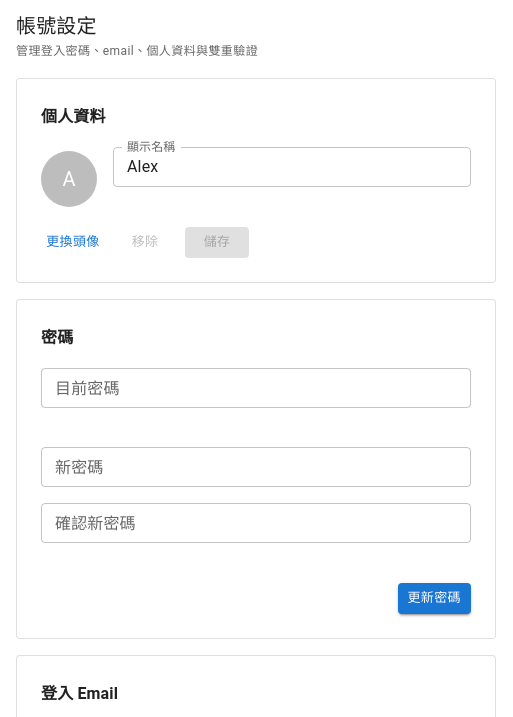
AccountSettingsView - 密碼 › 新密碼長度不足時顯示錯誤，不呼叫 updateAdminPassword
Type "old-pass" into the password field labelled "目前密碼".
click(256, 388); type("old-pass")  # box 41,368 -> 471,408
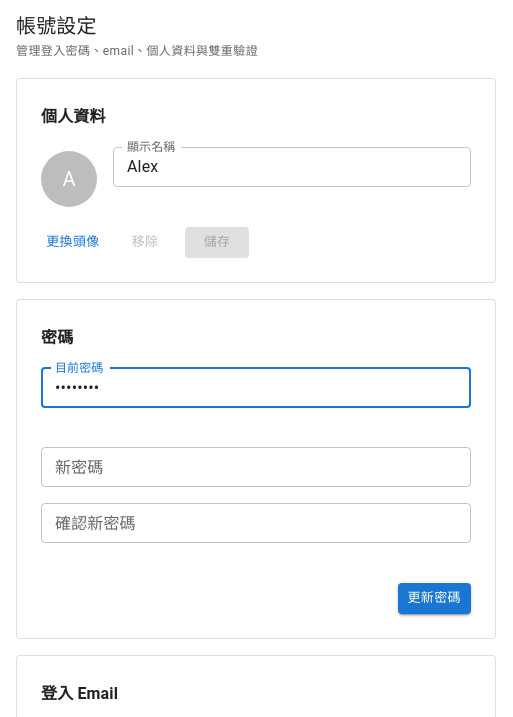
Type "abc" into the password field labelled "新密碼".
click(256, 468); type("abc")  # box 41,448 -> 471,488
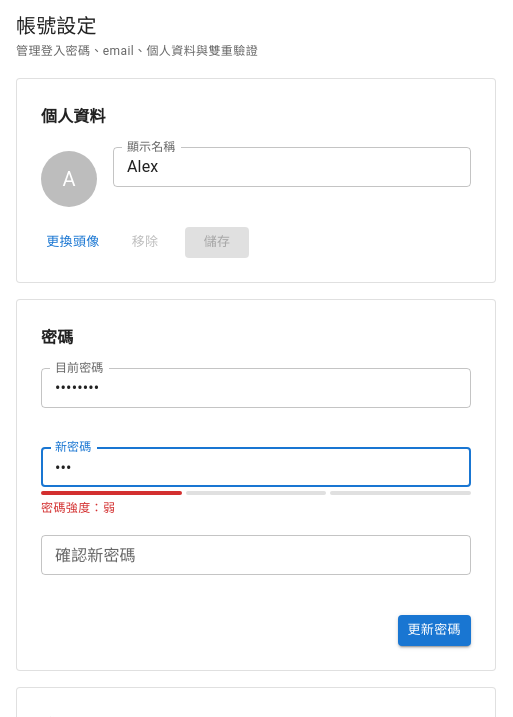
Type "abc" into the password field labelled "確認新密碼".
click(256, 555); type("abc")  # box 41,535 -> 471,575
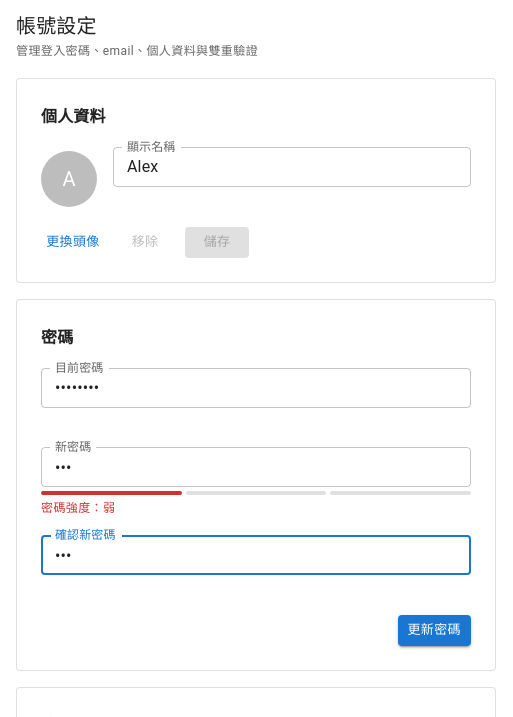
Click the button "更新密碼".
click(434, 631)  # box 398,615 -> 471,646
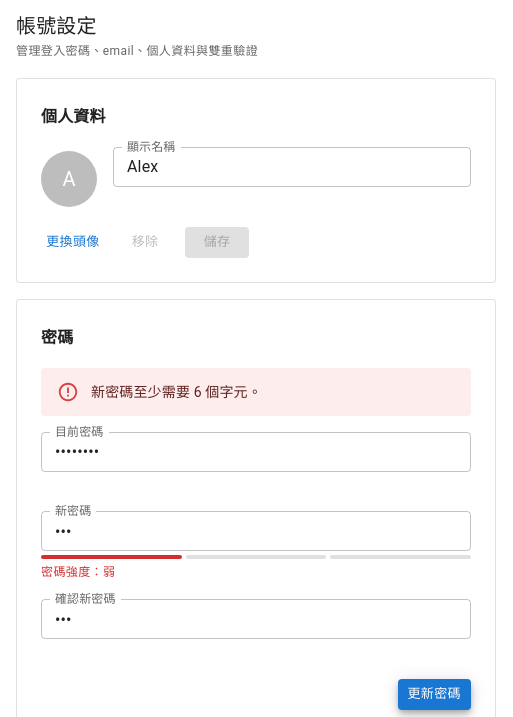
Now the text "新密碼至少需要 6 個字元。" is shown, box 91,384 -> 262,400
